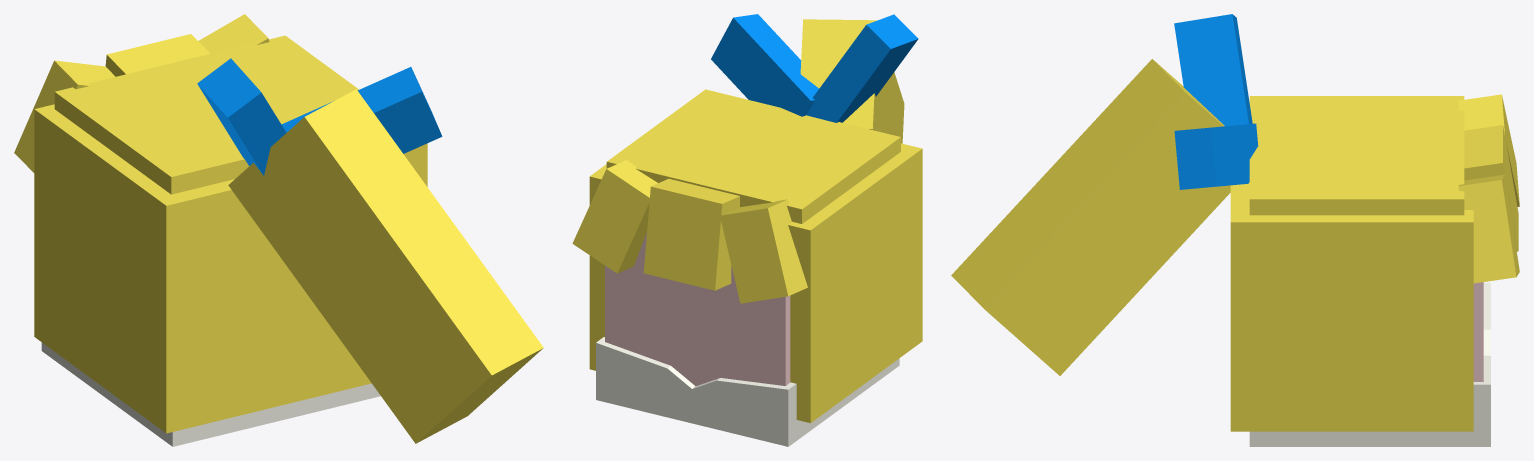
Rendered from Princess.fbx.
The picture shows the model from 3 angles, left to right: view 1: azimuth 30°, elevation 25°; view 2: azimuth 150°, elevation 25°; view 3: azimuth 270°, elevation 25°; orthographic projection. The views are drawn at different scales.
Visible parts, largest first — view 1: Cube.042; view 2: Cube.042; view 3: Cube.042.
Boxes of the visible parts, left/top/right/bottom form: Cube.042: left=14, top=14, right=543, bottom=446; Cube.042: left=572, top=14, right=922, bottom=446; Cube.042: left=951, top=14, right=1519, bottom=446.
Size of the model in its own units: 245 by 344 by 502.
